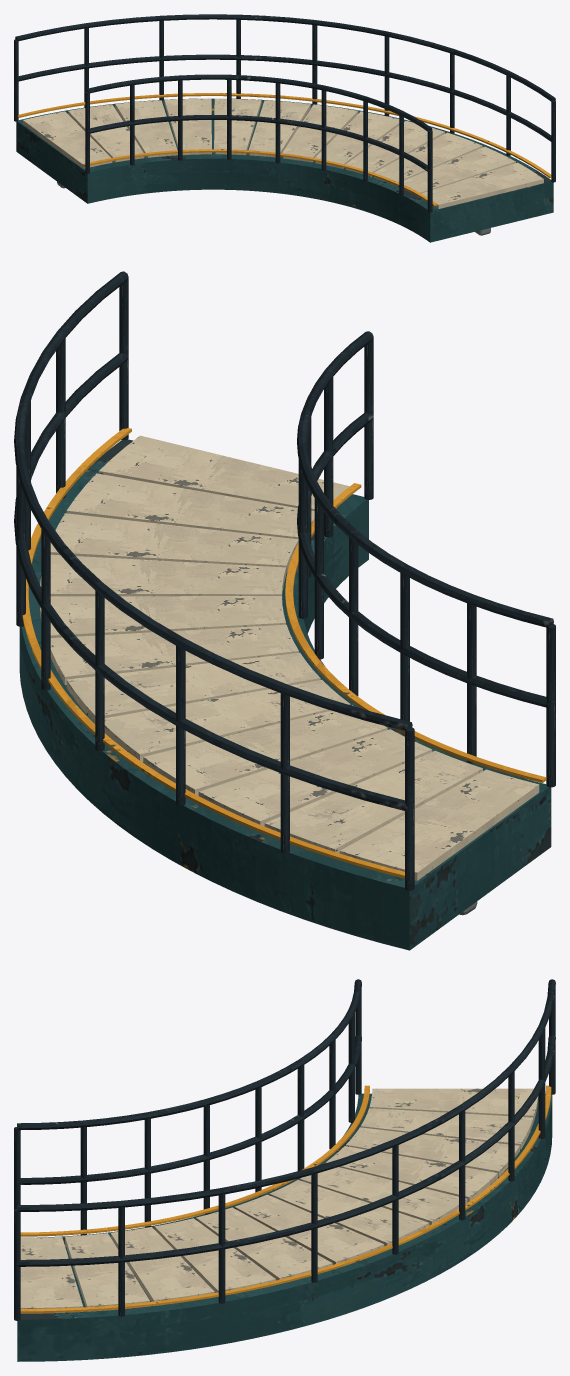
The model's file is core-ring-inner.glb.
3 views of the same model, one above another, from view 1: azimuth 30°, elevation 25°; view 2: azimuth 150°, elevation 25°; view 3: azimuth 270°, elevation 25° (orthographic). The views are drawn at different scales.
Visible parts, largest first — view 1: core-ring-inner__core-ring-inner__ivory, core-ring-inner__core-ring-inner__petrol, core-ring-inner__core-ring-inner__steel, core-ring-inner__core-ring-inner__amber; view 2: core-ring-inner__core-ring-inner__ivory, core-ring-inner__core-ring-inner__steel, core-ring-inner__core-ring-inner__petrol, core-ring-inner__core-ring-inner__amber; view 3: core-ring-inner__core-ring-inner__ivory, core-ring-inner__core-ring-inner__steel, core-ring-inner__core-ring-inner__petrol, core-ring-inner__core-ring-inner__amber.
Part boxes in pixels (<box>): core-ring-inner__core-ring-inner__ivory: <box>23,98,543,208</box>; core-ring-inner__core-ring-inner__petrol: <box>16,98,553,242</box>; core-ring-inner__core-ring-inner__steel: <box>14,14,555,212</box>; core-ring-inner__core-ring-inner__amber: <box>17,93,551,206</box>; core-ring-inner__core-ring-inner__ivory: <box>40,435,539,880</box>; core-ring-inner__core-ring-inner__steel: <box>14,271,555,890</box>; core-ring-inner__core-ring-inner__petrol: <box>19,439,551,950</box>; core-ring-inner__core-ring-inner__amber: <box>22,428,546,878</box>; core-ring-inner__core-ring-inner__ivory: <box>20,1088,538,1313</box>; core-ring-inner__core-ring-inner__steel: <box>14,979,555,1320</box>; core-ring-inner__core-ring-inner__petrol: <box>17,1093,552,1361</box>; core-ring-inner__core-ring-inner__amber: <box>20,1085,551,1313</box>.
Bounding box in the file's own units: 3.49 × 1.21 × 3.49.
5 materials, 4 textured.
